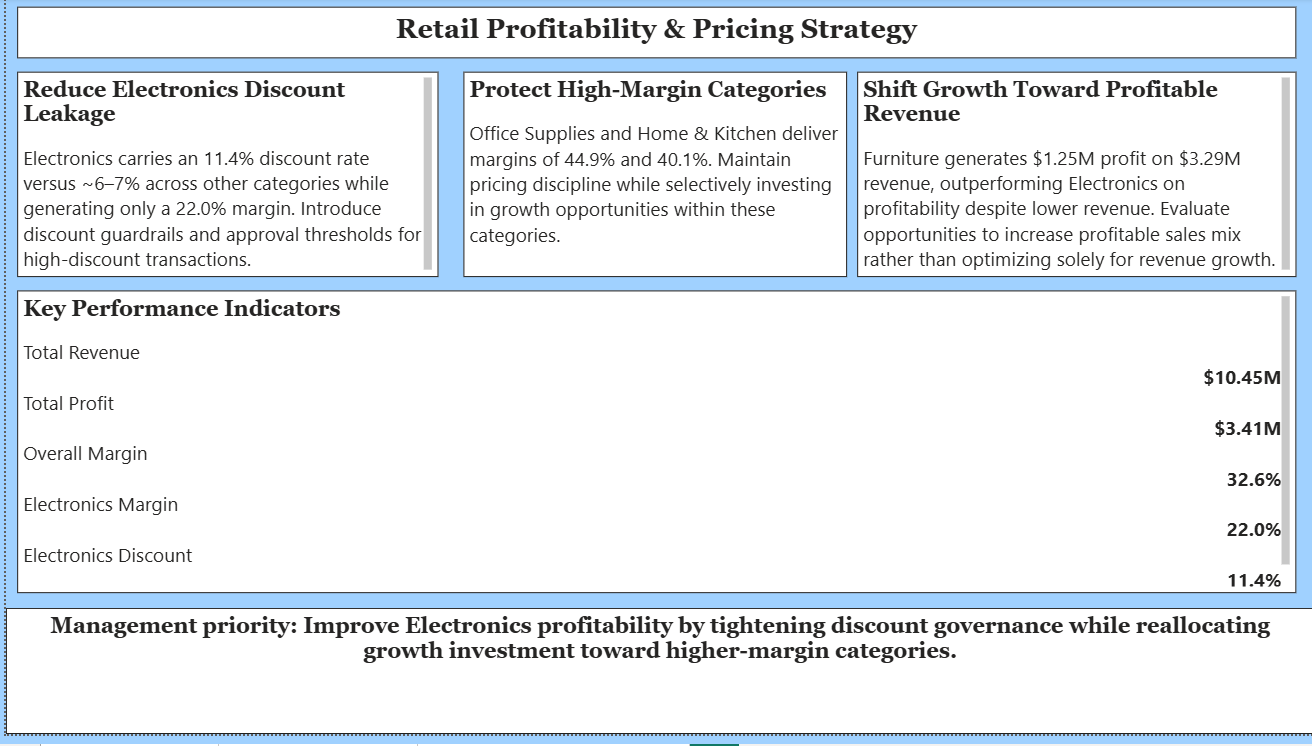

The page's visual inventory and layout, read from the dashboard file:
{"tool":"powerbi","page":{"name":"Management Recommendations","canvas":[1280,720],"ordinal":2},"visuals":[{"type":"textbox","box":[11,8.6,1251,50.1],"z":0},{"type":"textbox","box":[11,72.1,412.1,200.5],"z":1},{"type":"textbox","box":[447.6,72.1,375.4,200.5],"z":2},{"type":"textbox","box":[832.7,72.1,429.2,200.5],"z":3},{"type":"textbox","box":[11,286.1,1251,295.9],"z":4},{"type":"textbox","box":[0,596.7,1280.3,123.5],"z":5}]}

Visuals, with their boxes in screenshot pixels (x1, y1, x2, y2), scaled from the page's 1280x720 canvas onto the 1312x746 screenshot:
textbox: 11,9,1294,61
textbox: 11,75,434,282
textbox: 459,75,844,282
textbox: 854,75,1293,282
textbox: 11,296,1294,603
textbox: 0,618,1311,745
